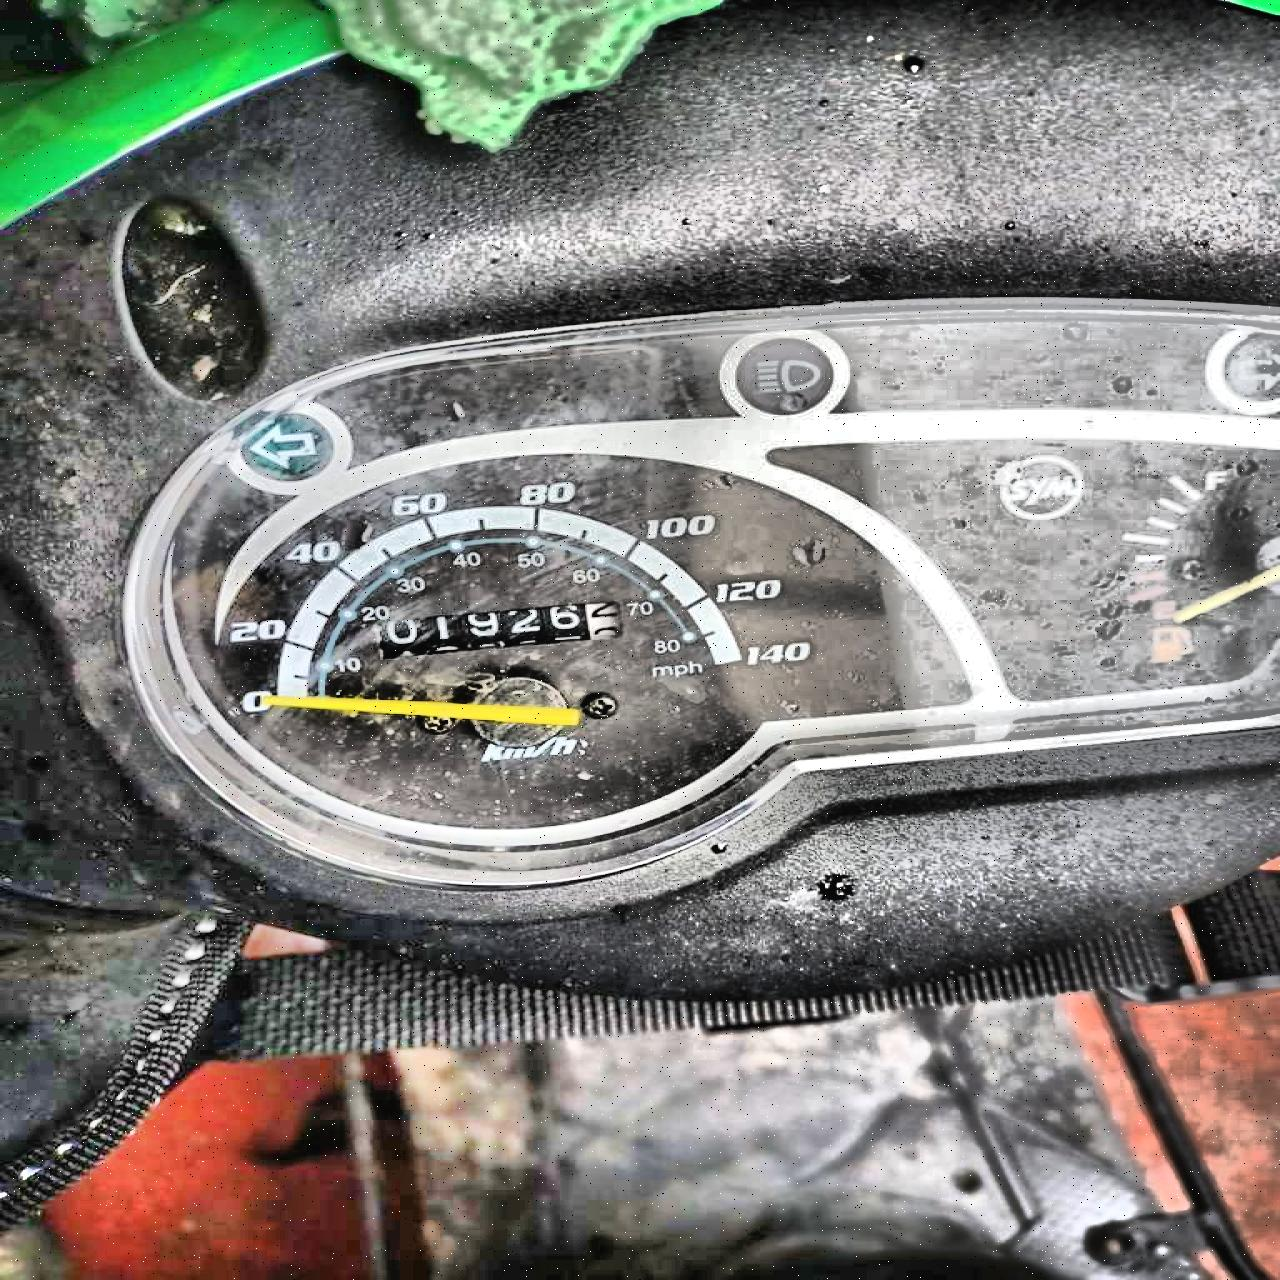0: (384, 618, 420, 647), (375, 604, 387, 619)
1: (430, 608, 454, 644)
2: (506, 605, 540, 634), (590, 600, 618, 620)
6: (546, 602, 580, 629)
9: (462, 605, 502, 639)
odometer: (375, 599, 628, 659)
